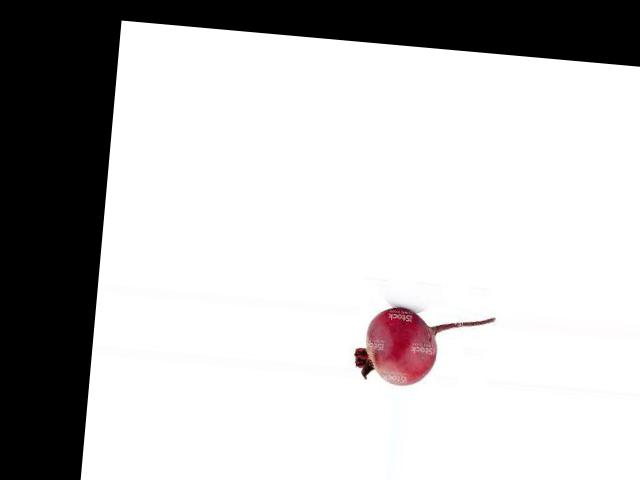beet: (351, 304, 494, 392)
